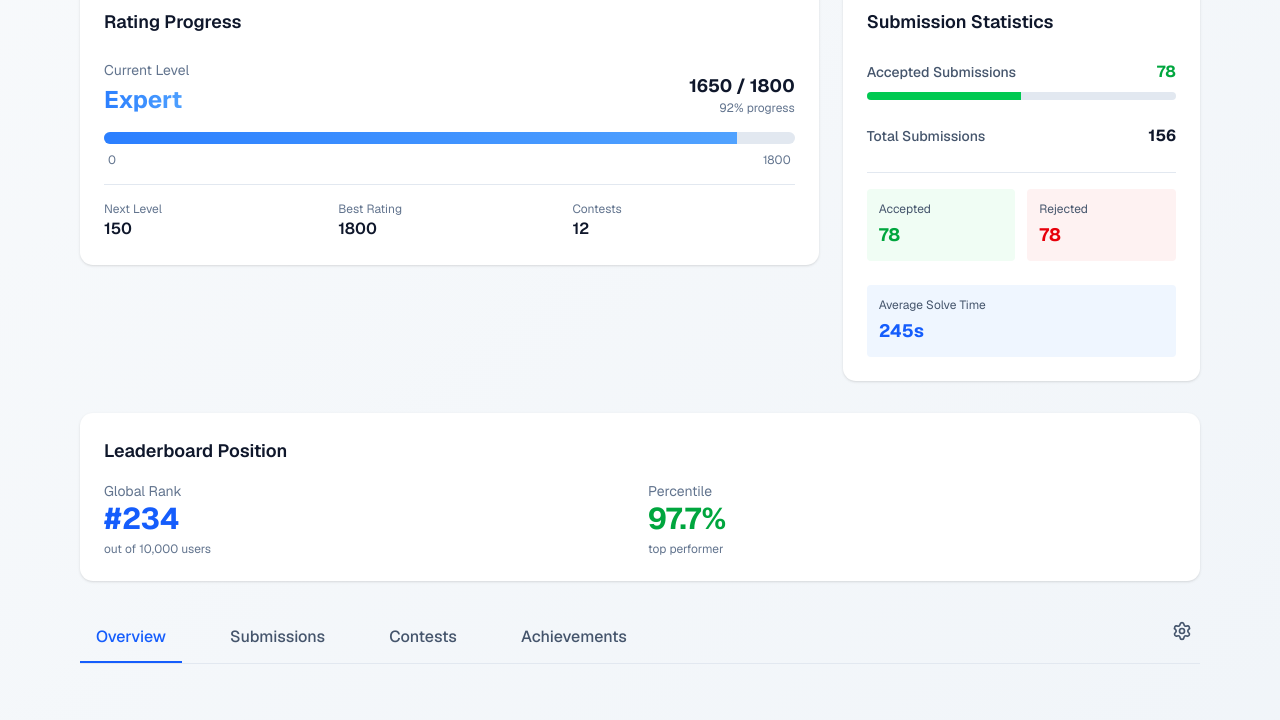
UserProfile Component Suite › UserProfile - Tabs Navigation › should switch to contests tab on click
(page scrolled)
Step 1. Click the button with test id "contests-tab" → [423, 638], box [373,613,473,663]
(page scrolled)
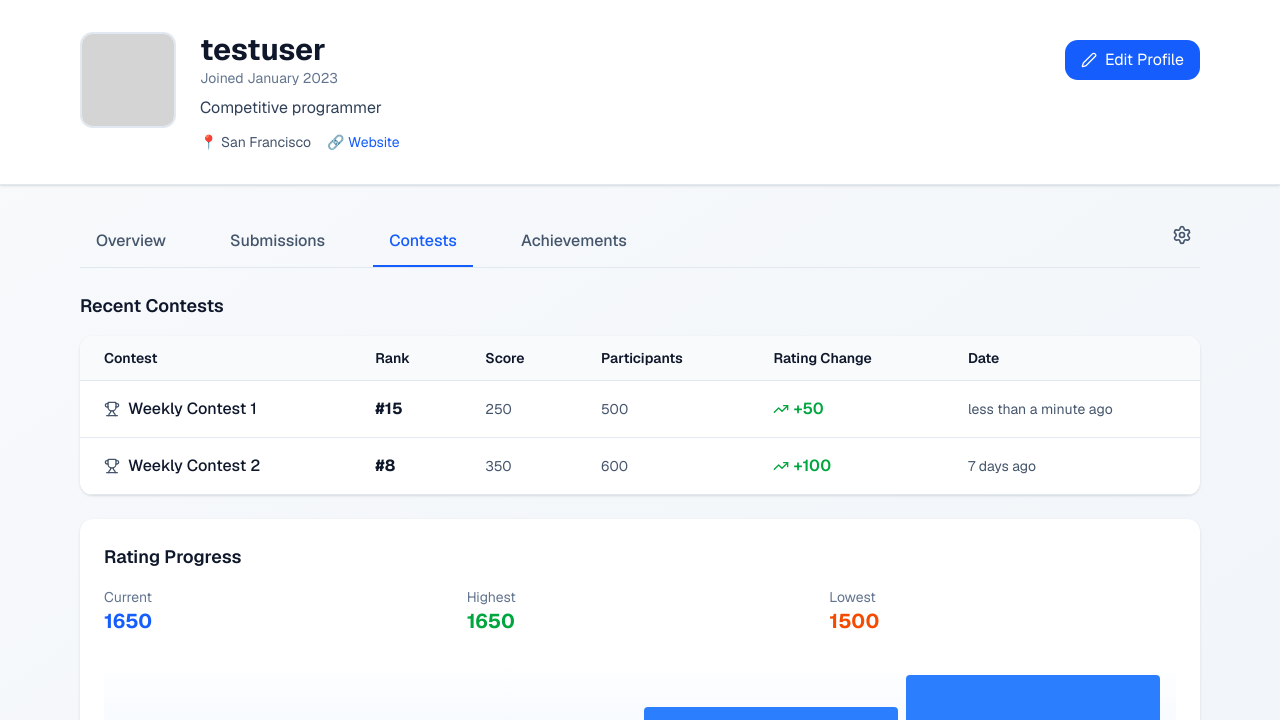
Result: the row with test id "contest-row" that starts with "Weekly Contest 1" is shown at [80,380,1200,438]
